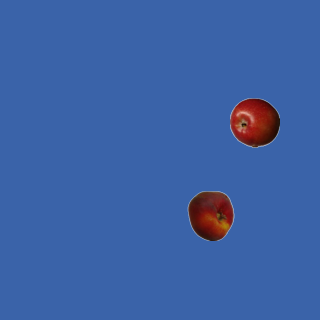Apple Braeburn: (229, 97, 279, 147)
Nectarine Flat: (185, 190, 235, 240)
